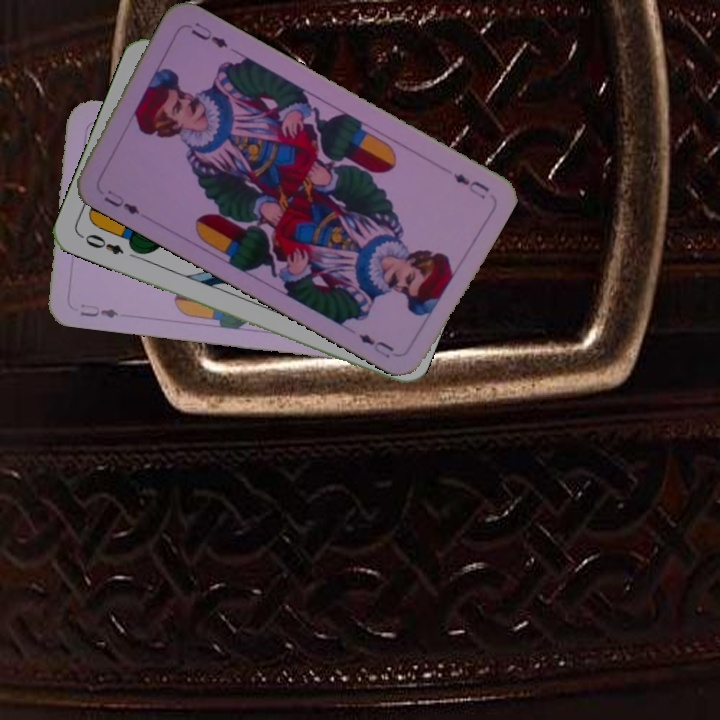EO: (76, 230, 126, 258)
EU: (449, 169, 492, 202), (99, 185, 142, 217), (76, 300, 121, 321)
